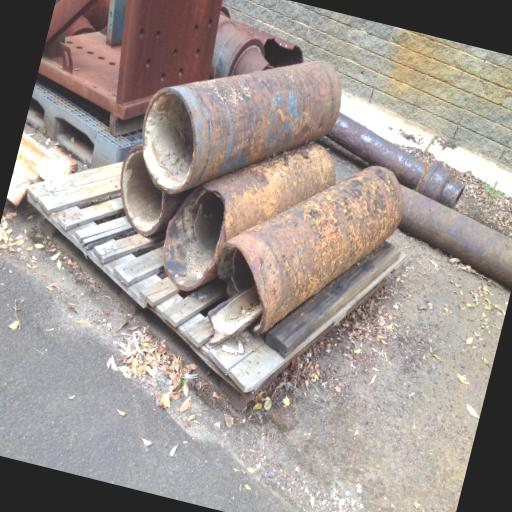segmentation: (122, 29, 357, 201), (214, 158, 430, 333), (177, 116, 345, 264), (34, 14, 167, 130), (323, 111, 469, 210), (159, 183, 226, 294), (8, 132, 82, 191)
